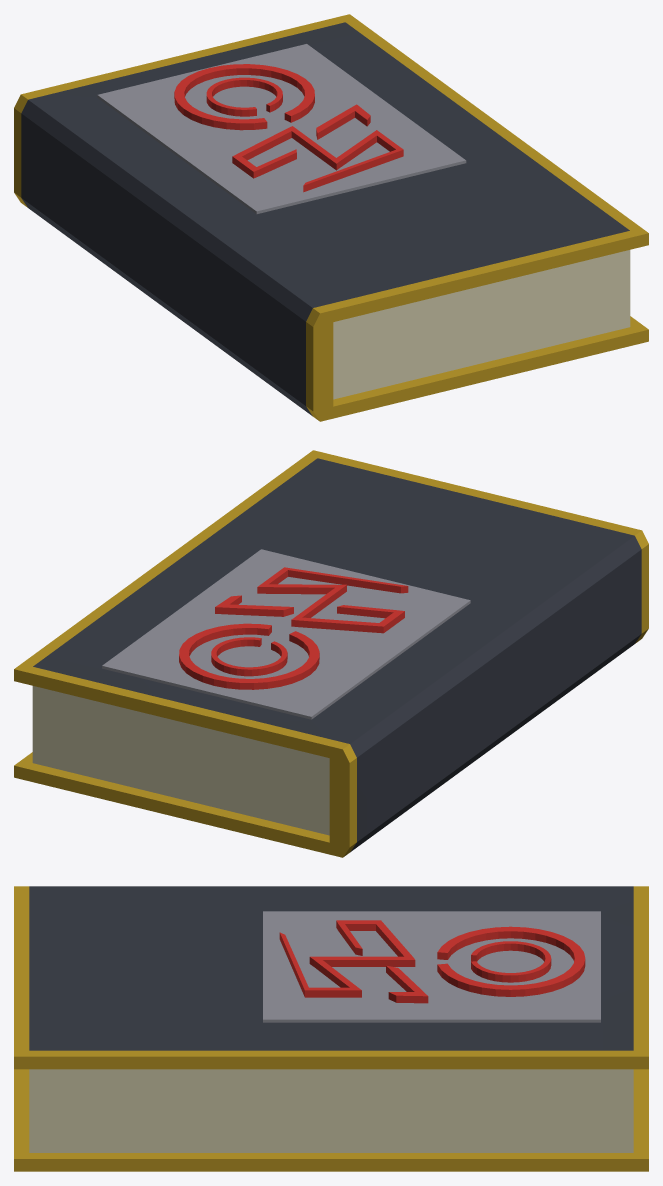
The model's file is Book_001.fbx.
3 views of the same model, one above another, from view 1: azimuth 30°, elevation 25°; view 2: azimuth 150°, elevation 25°; view 3: azimuth 270°, elevation 25° (orthographic). The views are drawn at different scales.
Parts seen in each view (by area): view 1: Book_001; view 2: Book_001; view 3: Book_001.
Part boxes in pixels (x1,y1,x2,y2): Book_001: (14, 14, 648, 421); Book_001: (14, 450, 648, 857); Book_001: (14, 886, 648, 1171).
Size of the model in its own units: 1014 by 340 by 1565.
